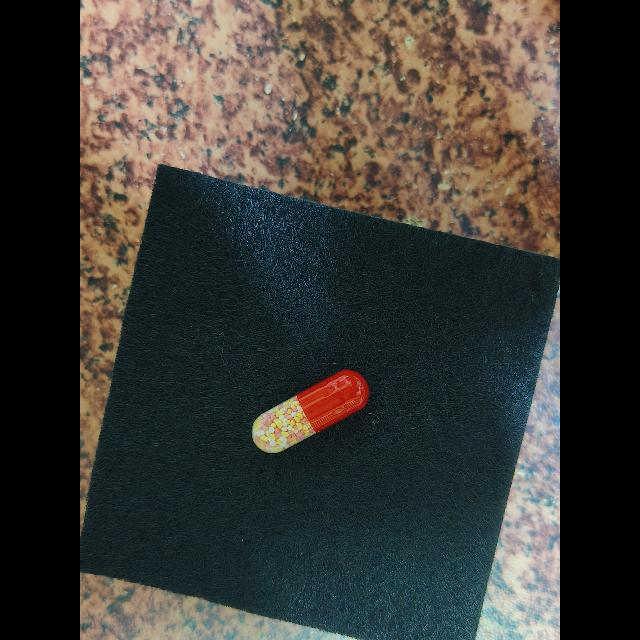Intact Capsule: (251, 369, 370, 453)
